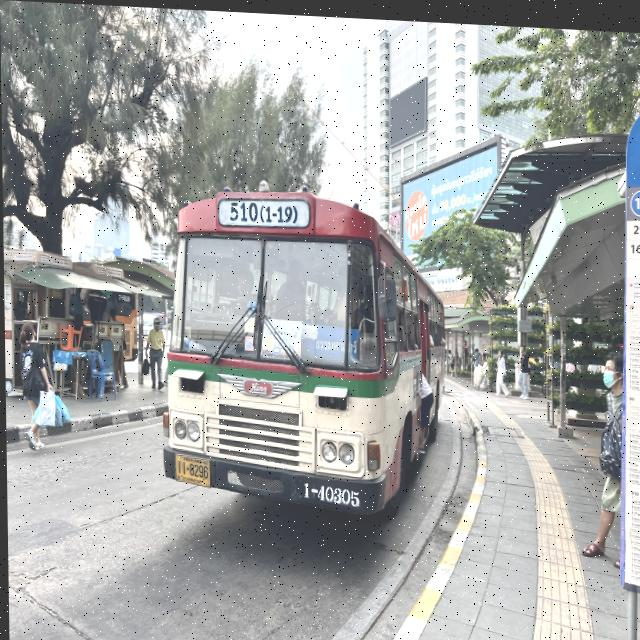BMTA-bus: (156, 184, 447, 520)
Bus-Line-Number: (218, 195, 311, 227)
Destination-Sign-Normal: (297, 320, 359, 359)
